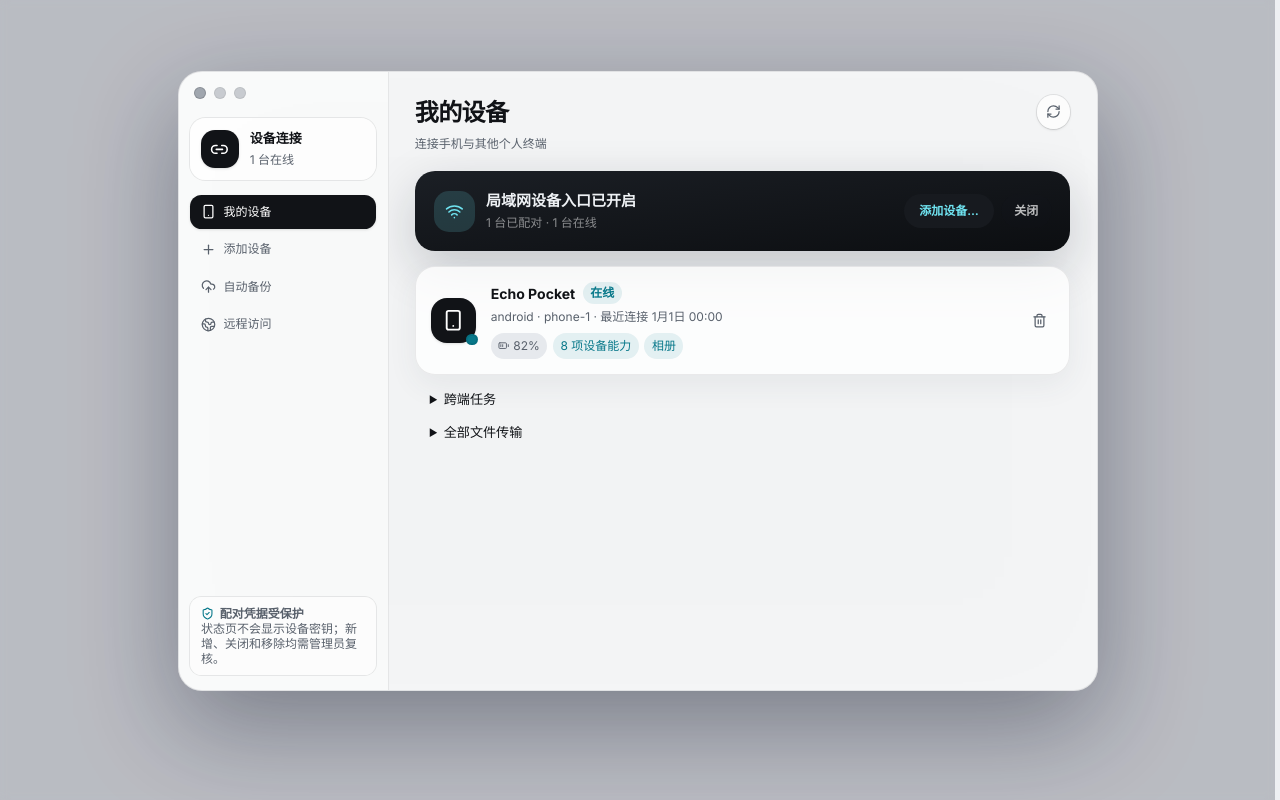
Test: device link panel › shows real Tentacle devices and the honest remote-access boundary
Expected: the text "Echo Pocket" is shown, [491,282,575,304]
Expected: the text "8 项设备能力" is shown, [553,333,639,359]
Click the button "远程访问": coordinates (283, 324) [190,307,376,341]
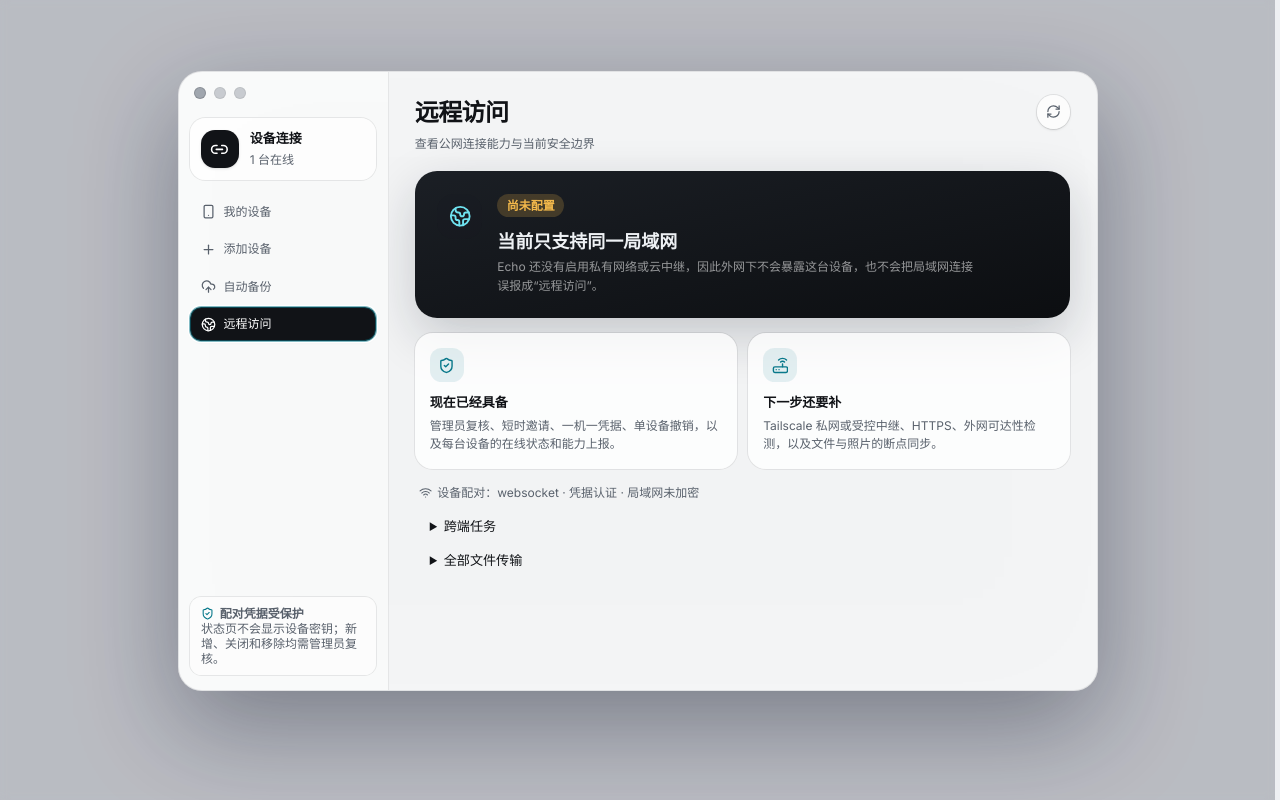
Now the heading "当前只支持同一局域网" is shown, box [497,230,677,252]
Now the text "Tailscale 私网或受控中继、HTTPS、外网可达性检测，以及文件与照片的断点同步。" is shown, box [763,416,1055,454]
Now the text "设备配对：websocket · 凭据认证 · 局域网未加密" is shown, box [418,485,699,500]
